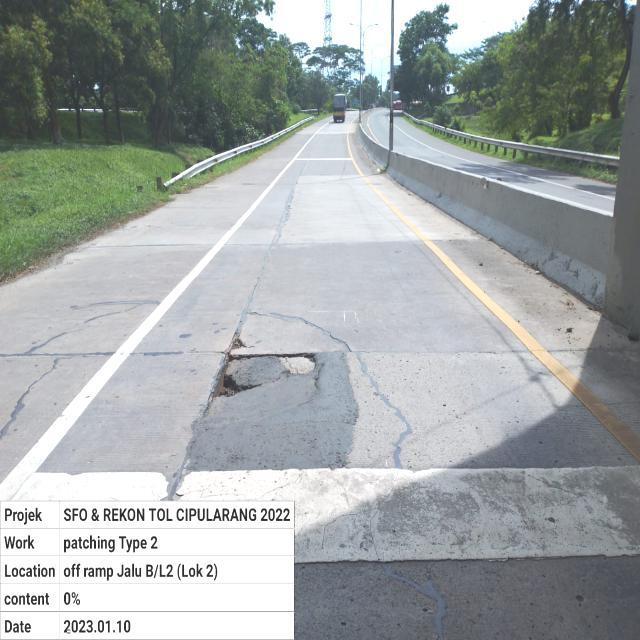Buraco: (200, 330, 326, 424)
